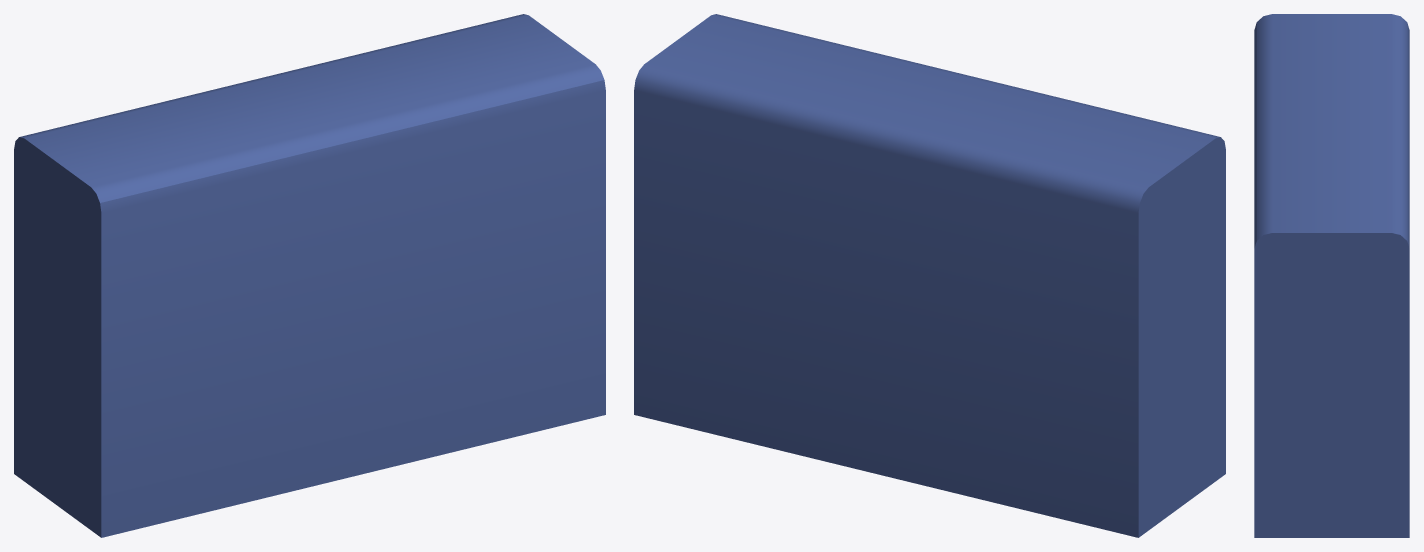
The model's file is Frame_Line.fbx.
3 views of the same model, side by side, from view 1: azimuth 30°, elevation 25°; view 2: azimuth 150°, elevation 25°; view 3: azimuth 270°, elevation 25° (orthographic). The views are drawn at different scales.
Parts seen in each view (by area): view 1: Frame_Line; view 2: Frame_Line; view 3: Frame_Line.
Part boxes in pixels (bbox=[...]): Frame_Line: bbox=[14, 14, 605, 537]; Frame_Line: bbox=[634, 14, 1225, 537]; Frame_Line: bbox=[1254, 14, 1409, 537].
Size of the model in its own units: 100 by 65 by 30.
